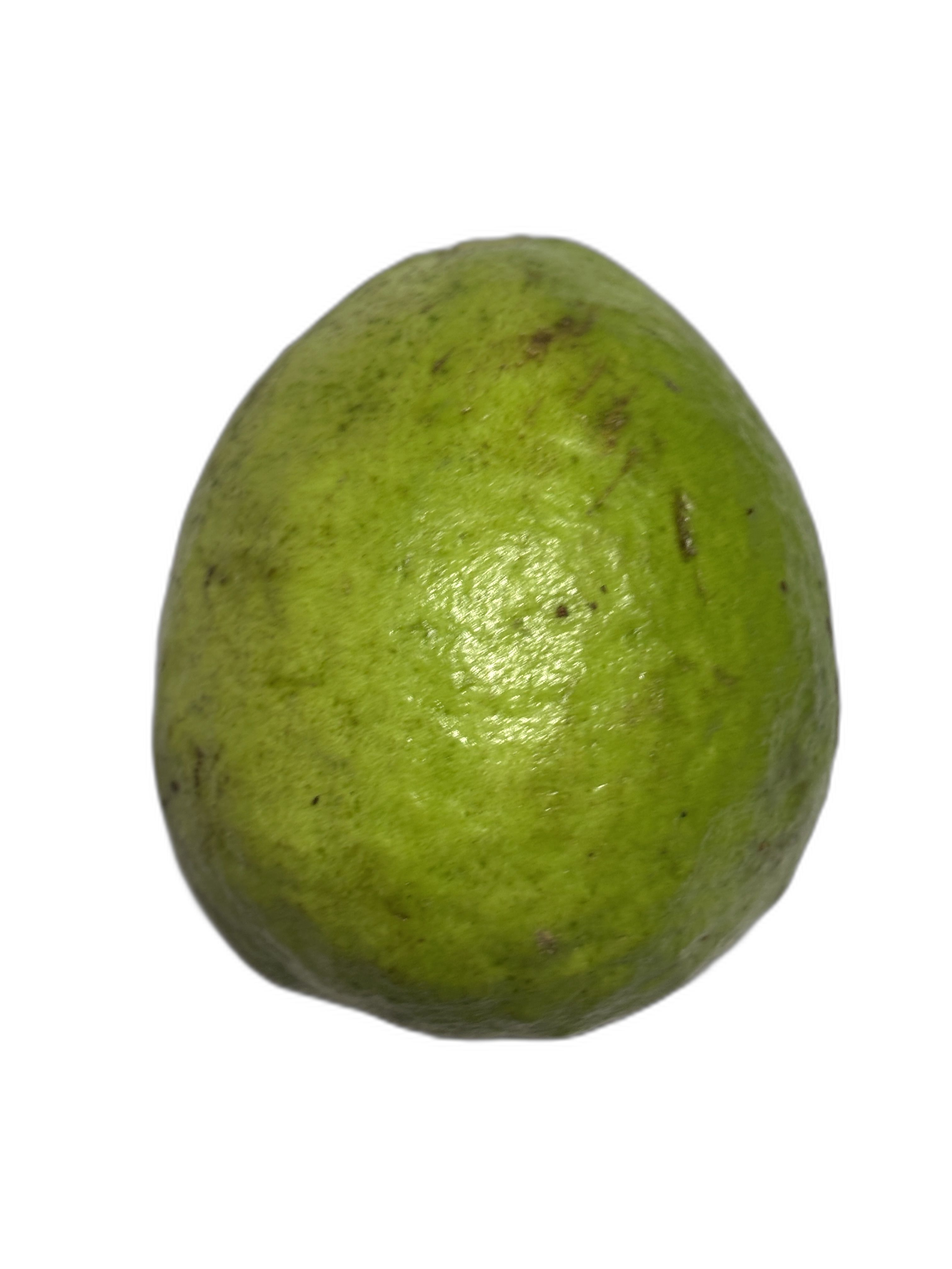guava: (99, 220, 948, 1130)
